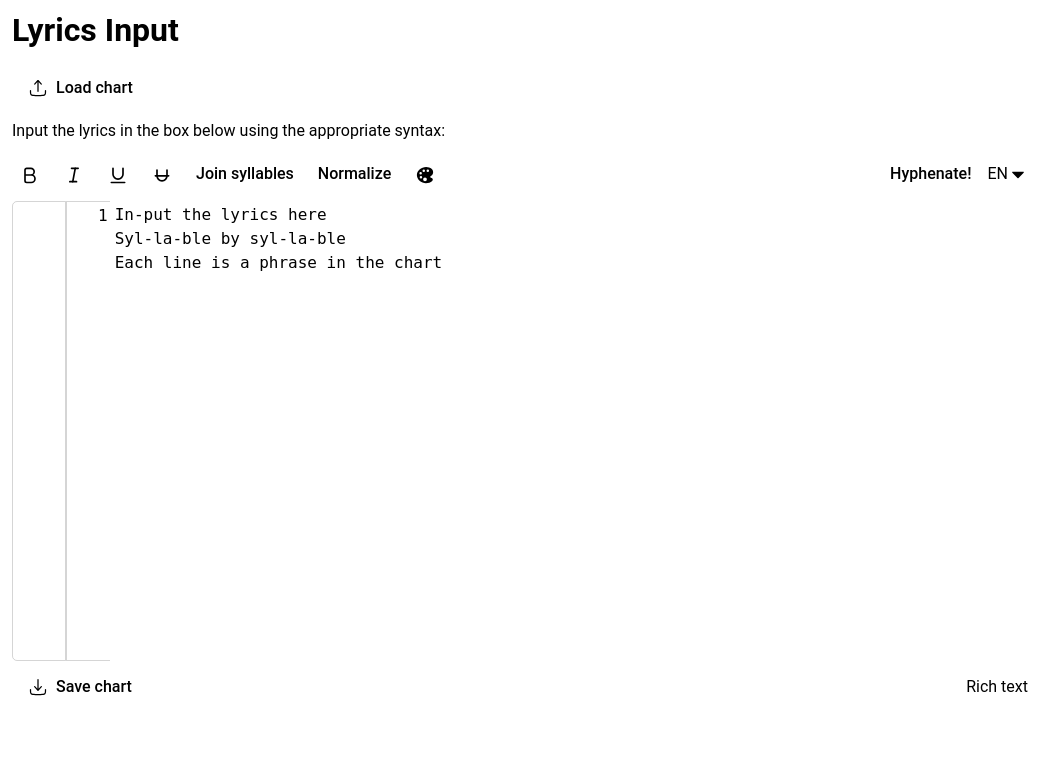
Test: LyricsInputView › un-joins a joined selection in plain mode
The width and height of the screenshot is (1048, 780).
Click the button "Load chart".
click(80, 88)  # box [12,70,149,106]
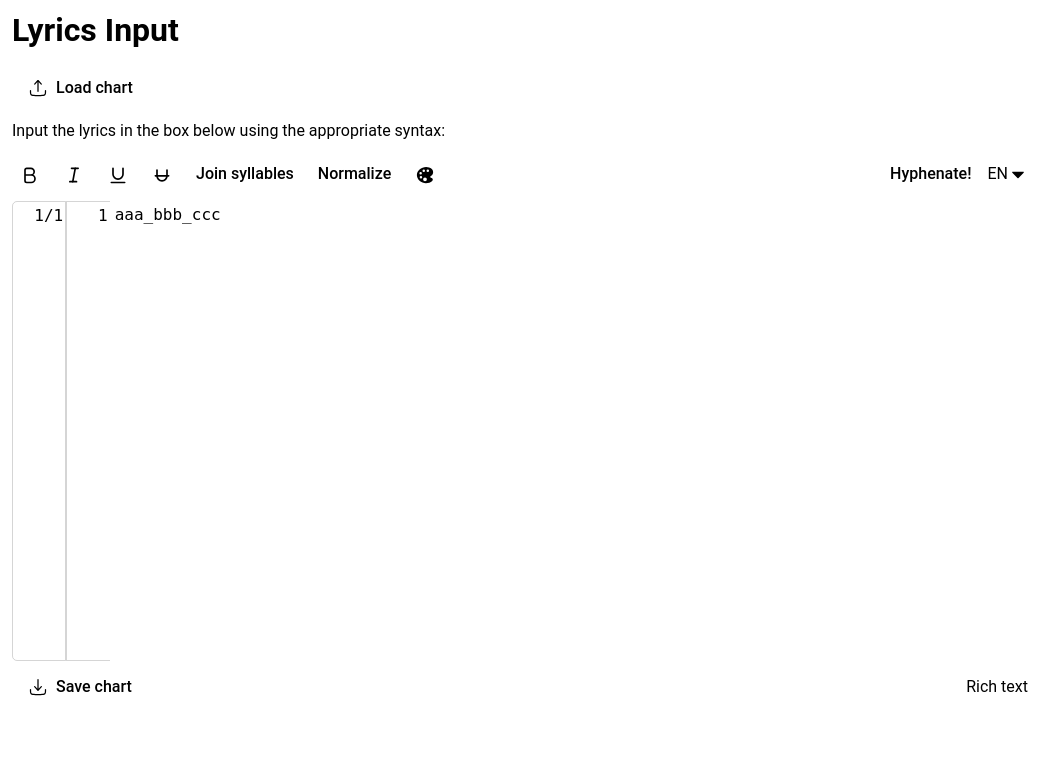
Click the button "Join syllables".
click(245, 175)  # box [188,157,302,193]
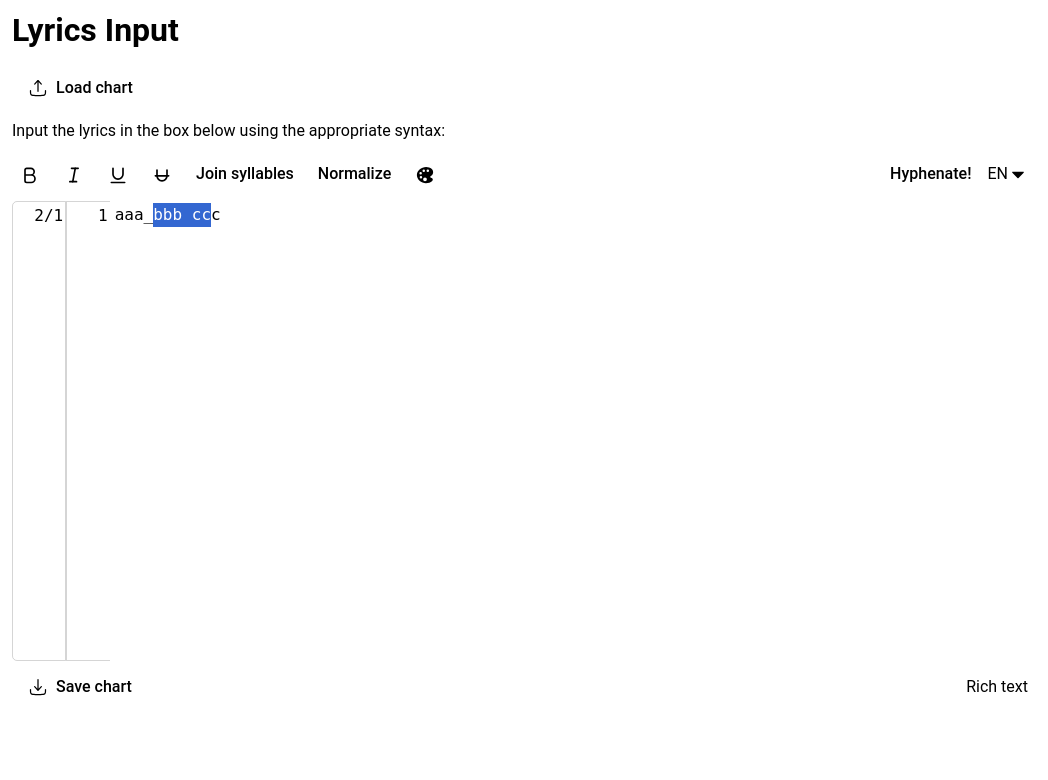
expect the text "aaa_bbb ccc" is shown: met, box [16,205,122,224]
